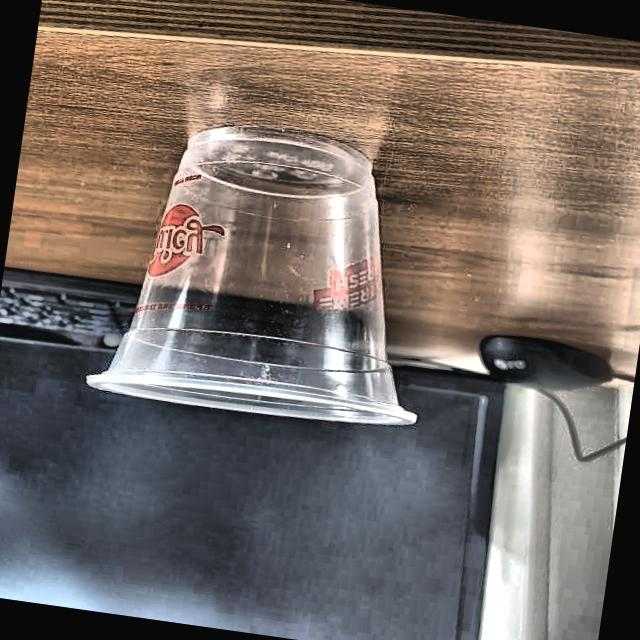plastic cup: (84, 106, 458, 444)
